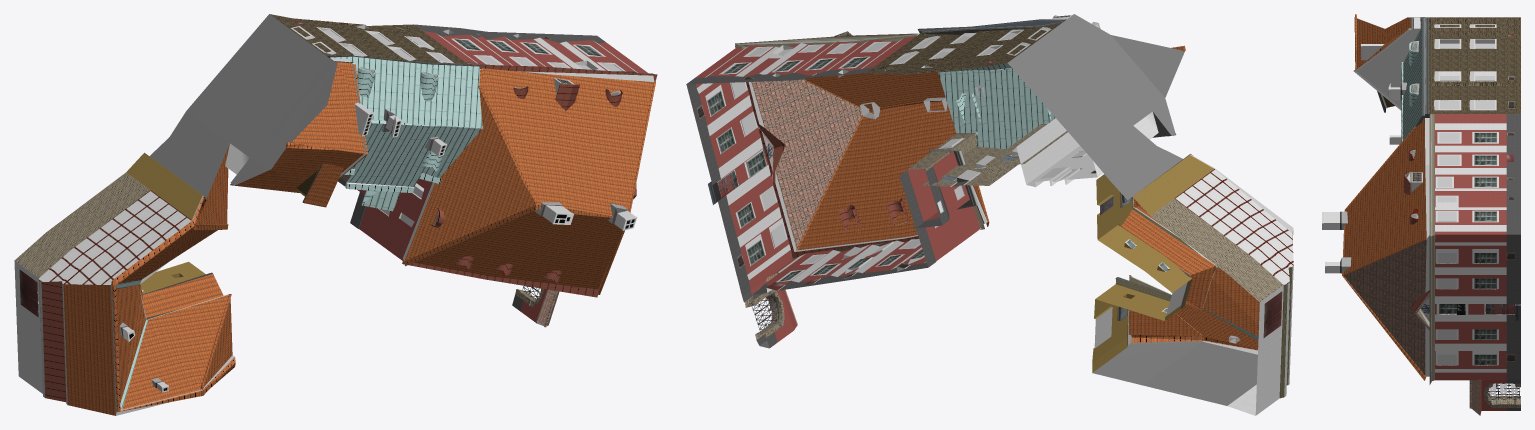
File: Lai_17-origo.obj
The picture shows the model from 3 angles, left to right: view 1: azimuth 30°, elevation 25°; view 2: azimuth 150°, elevation 25°; view 3: azimuth 270°, elevation 25°; orthographic projection. The views are drawn at different scales.
Parts seen in each view (by area): view 1: Lai_17; view 2: Lai_17; view 3: Lai_17.
Part boxes in pixels (box(x1,y1,x2,y2)): Lai_17: box(14, 14, 657, 415); Lai_17: box(686, 14, 1293, 415); Lai_17: box(1322, 14, 1520, 415).
Size of the model in its own units: 60.88 by 35 by 21.36.
